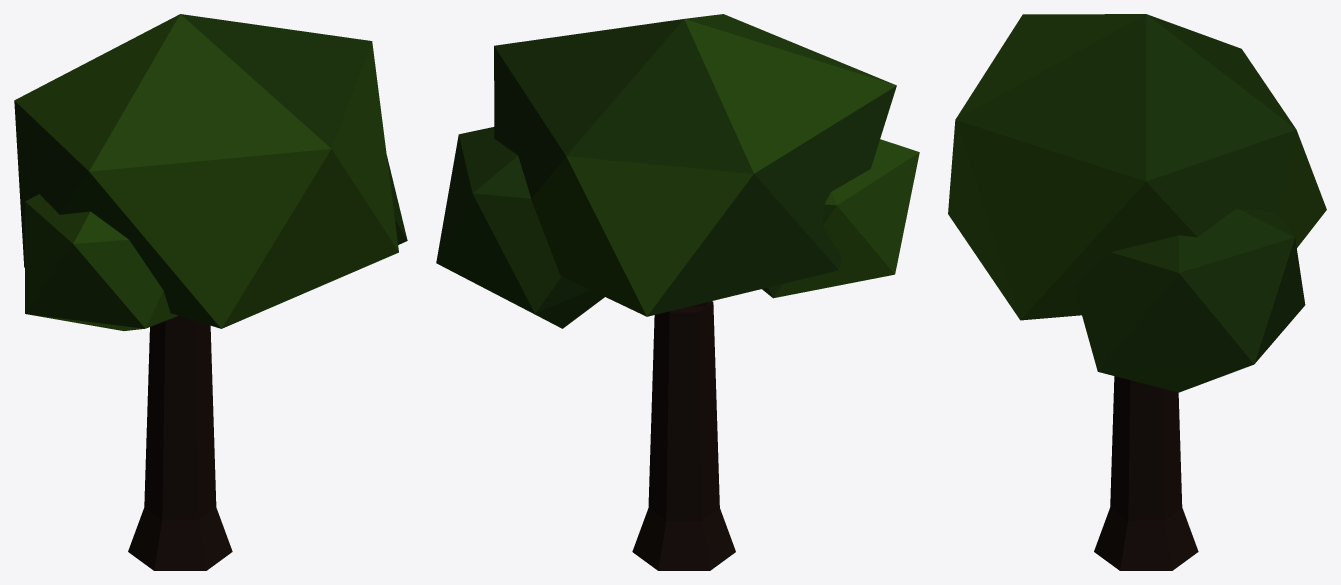
The model's file is ArvoreCopa.fbx.
3 views of the same model, side by side, from view 1: azimuth 30°, elevation 25°; view 2: azimuth 150°, elevation 25°; view 3: azimuth 270°, elevation 25° (orthographic).
Parts seen in each view (by area): view 1: ArvoreCopa; view 2: ArvoreCopa; view 3: ArvoreCopa.
Boxes of the visible parts, <box> form: ArvoreCopa: <box>14,14,407,570</box>; ArvoreCopa: <box>436,14,919,570</box>; ArvoreCopa: <box>948,14,1326,570</box>.
Bounding box in the file's own units: 2.79 × 3.62 × 2.31.
